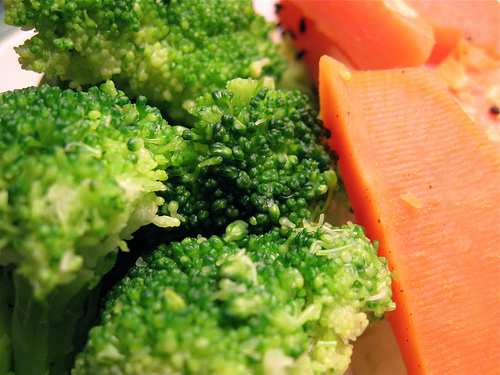broccoli: (73, 220, 397, 374), (0, 82, 190, 302), (173, 89, 340, 229), (141, 0, 288, 107), (0, 0, 152, 86)
